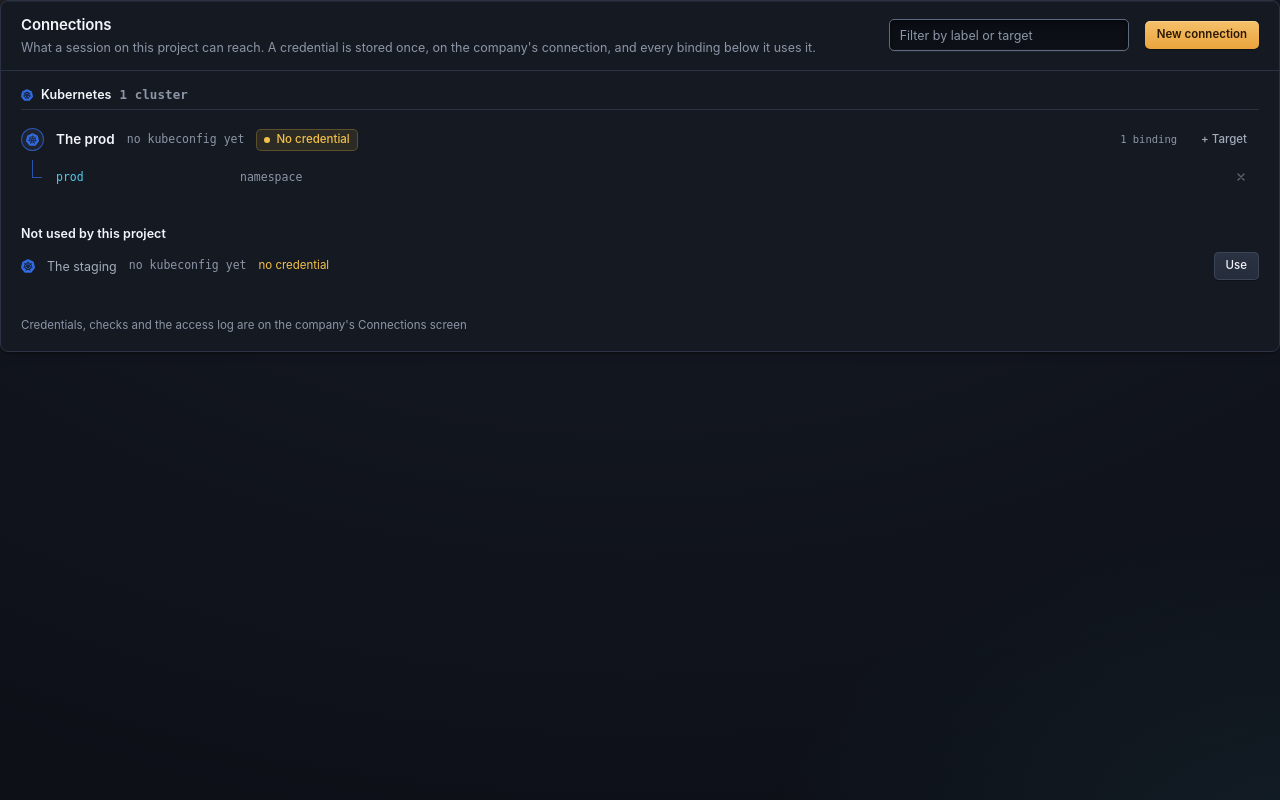
Scenario: ProjectConnectionsPage › binds a used connection once more, hanging the new binding under it
This screenshot has width=1280, height=800.
Click the button with test id "add-target". click: (1224, 139)
box: x1=1189 y1=125 x2=1259 y2=153
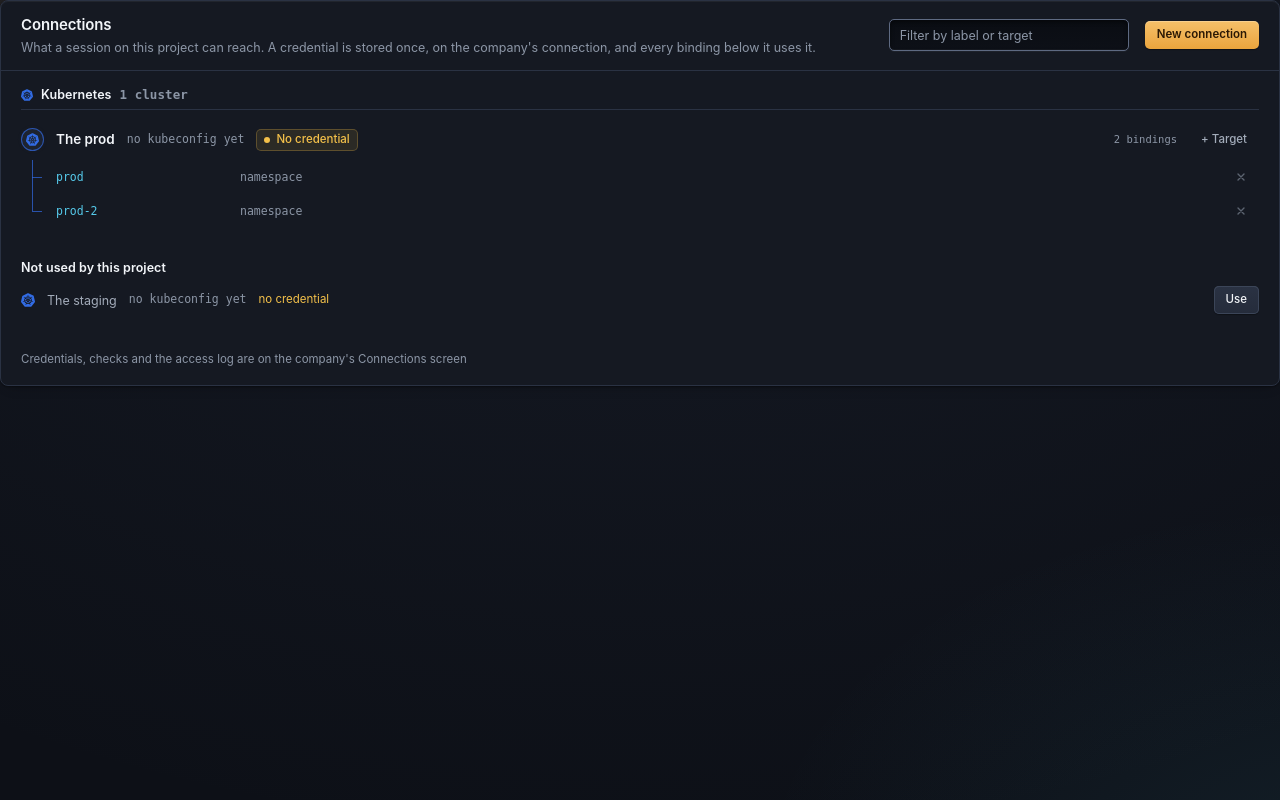
Expected: the number of elements with test id "project-connection" is 2, x1=47 y1=159 x2=1259 y2=193; x1=47 y1=193 x2=1259 y2=227
